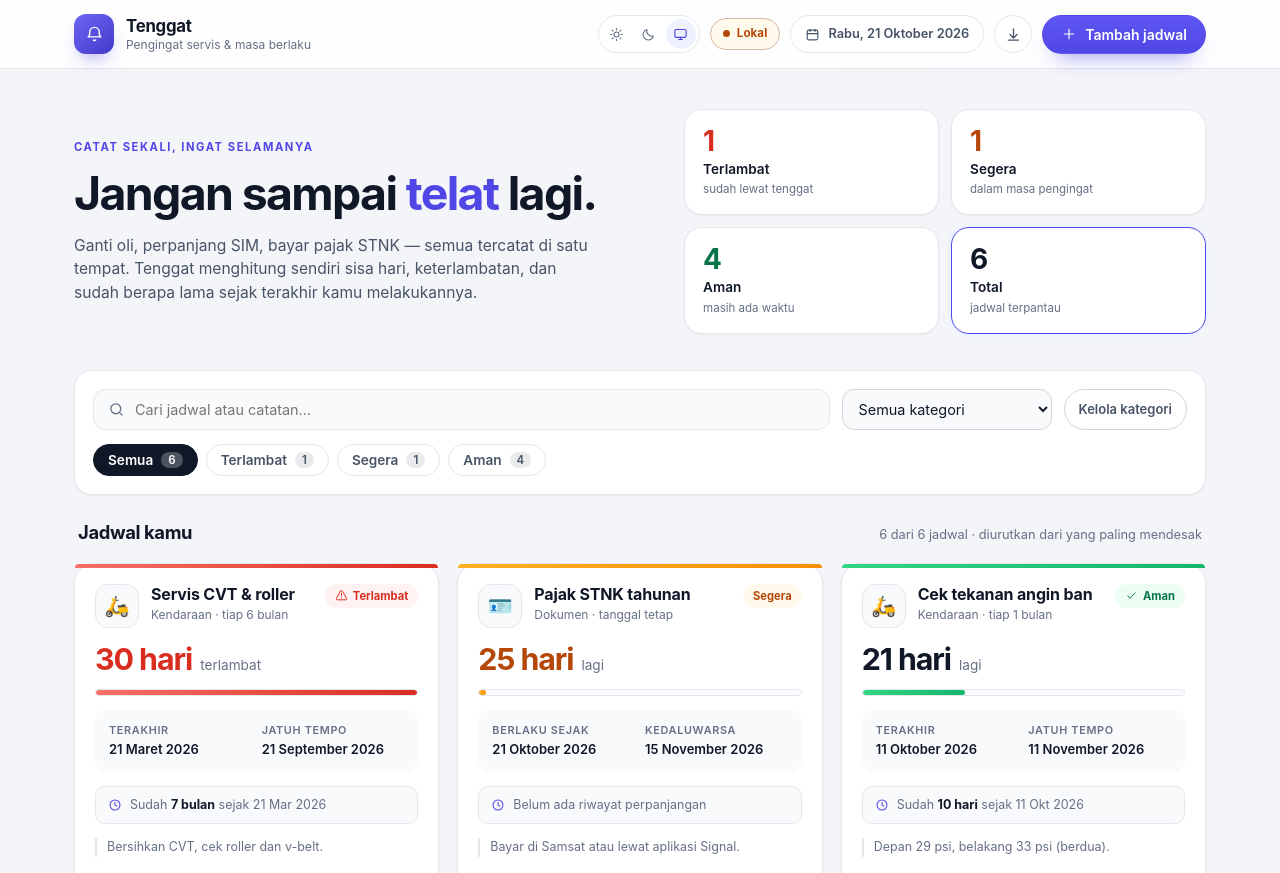
Test: App › menolak nama kosong dengan pesan validasi
This screenshot has width=1280, height=873.
Click the button "Tambah jadwal": {"x": 1124, "y": 34} left=1042, top=14, right=1206, bottom=54
(page scrolled)
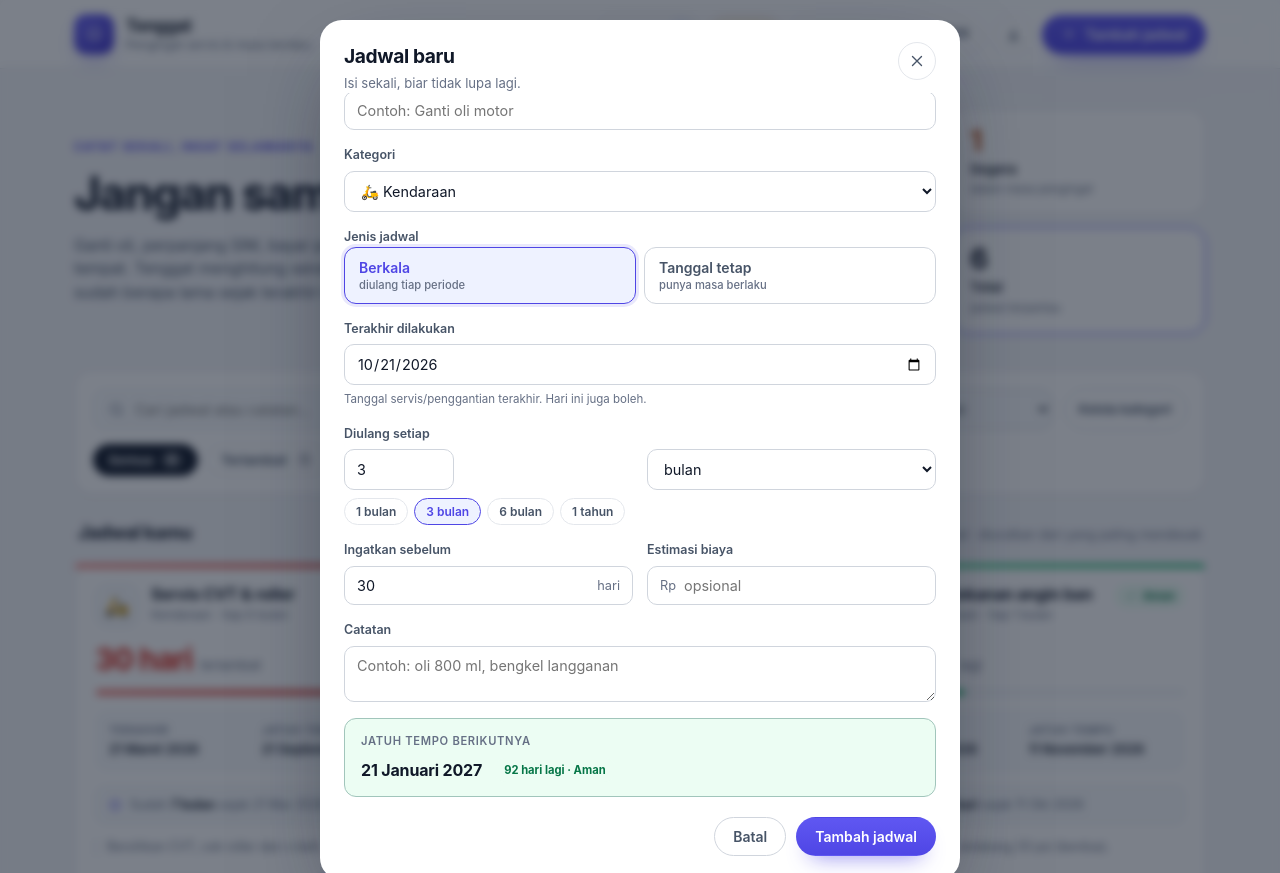
Click the button "Tambah jadwal": {"x": 866, "y": 837} left=796, top=817, right=936, bottom=856
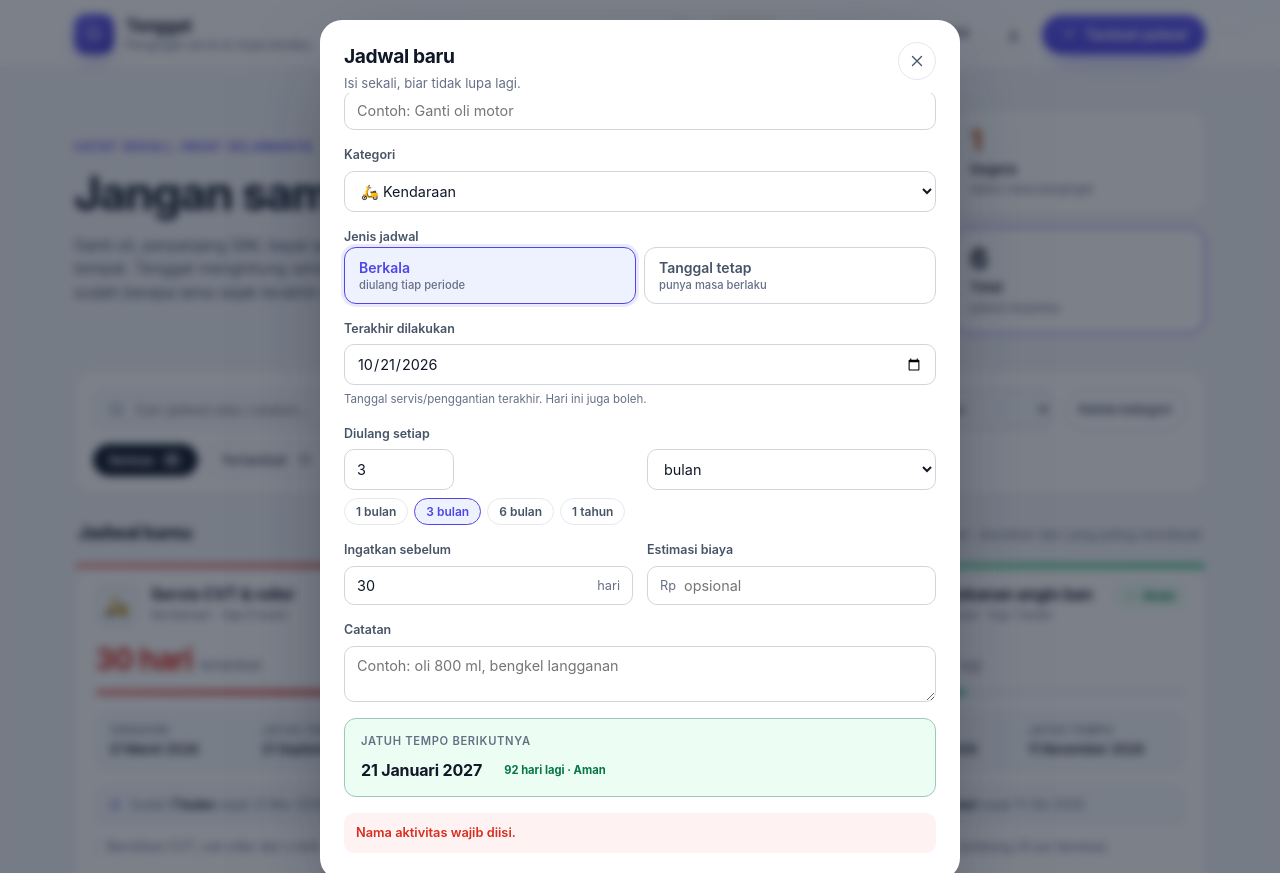
Expected: the text "Nama aktivitas wajib diisi." is shown, left=344, top=813, right=936, bottom=853
